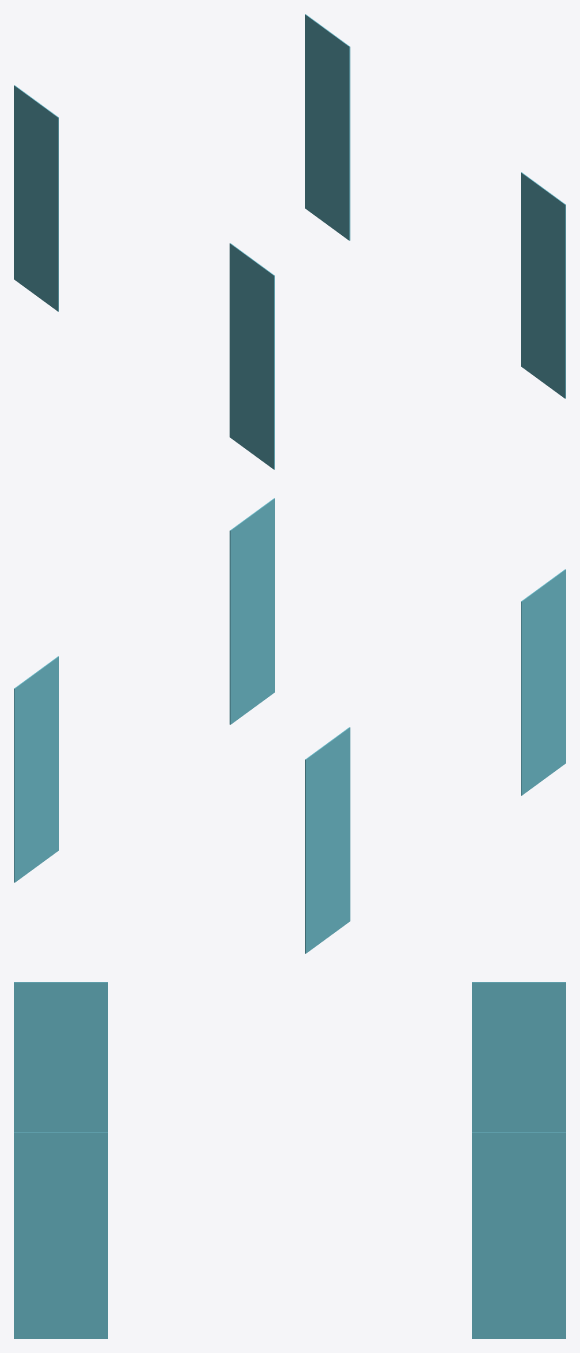
Rendered from Window_Wooden_Church.fbx.
3 views of the same model, one above another, from view 1: azimuth 30°, elevation 25°; view 2: azimuth 150°, elevation 25°; view 3: azimuth 270°, elevation 25° (orthographic). The views are drawn at different scales.
Visible parts, largest first — view 1: Window_Wooden_Church; view 2: Window_Wooden_Church; view 3: Window_Wooden_Church.
Part boxes in pixels (bbox=[...]): Window_Wooden_Church: bbox=[14, 14, 565, 469]; Window_Wooden_Church: bbox=[14, 498, 565, 953]; Window_Wooden_Church: bbox=[14, 982, 565, 1338].
Size of the model in its own units: 391 by 248 by 603.
